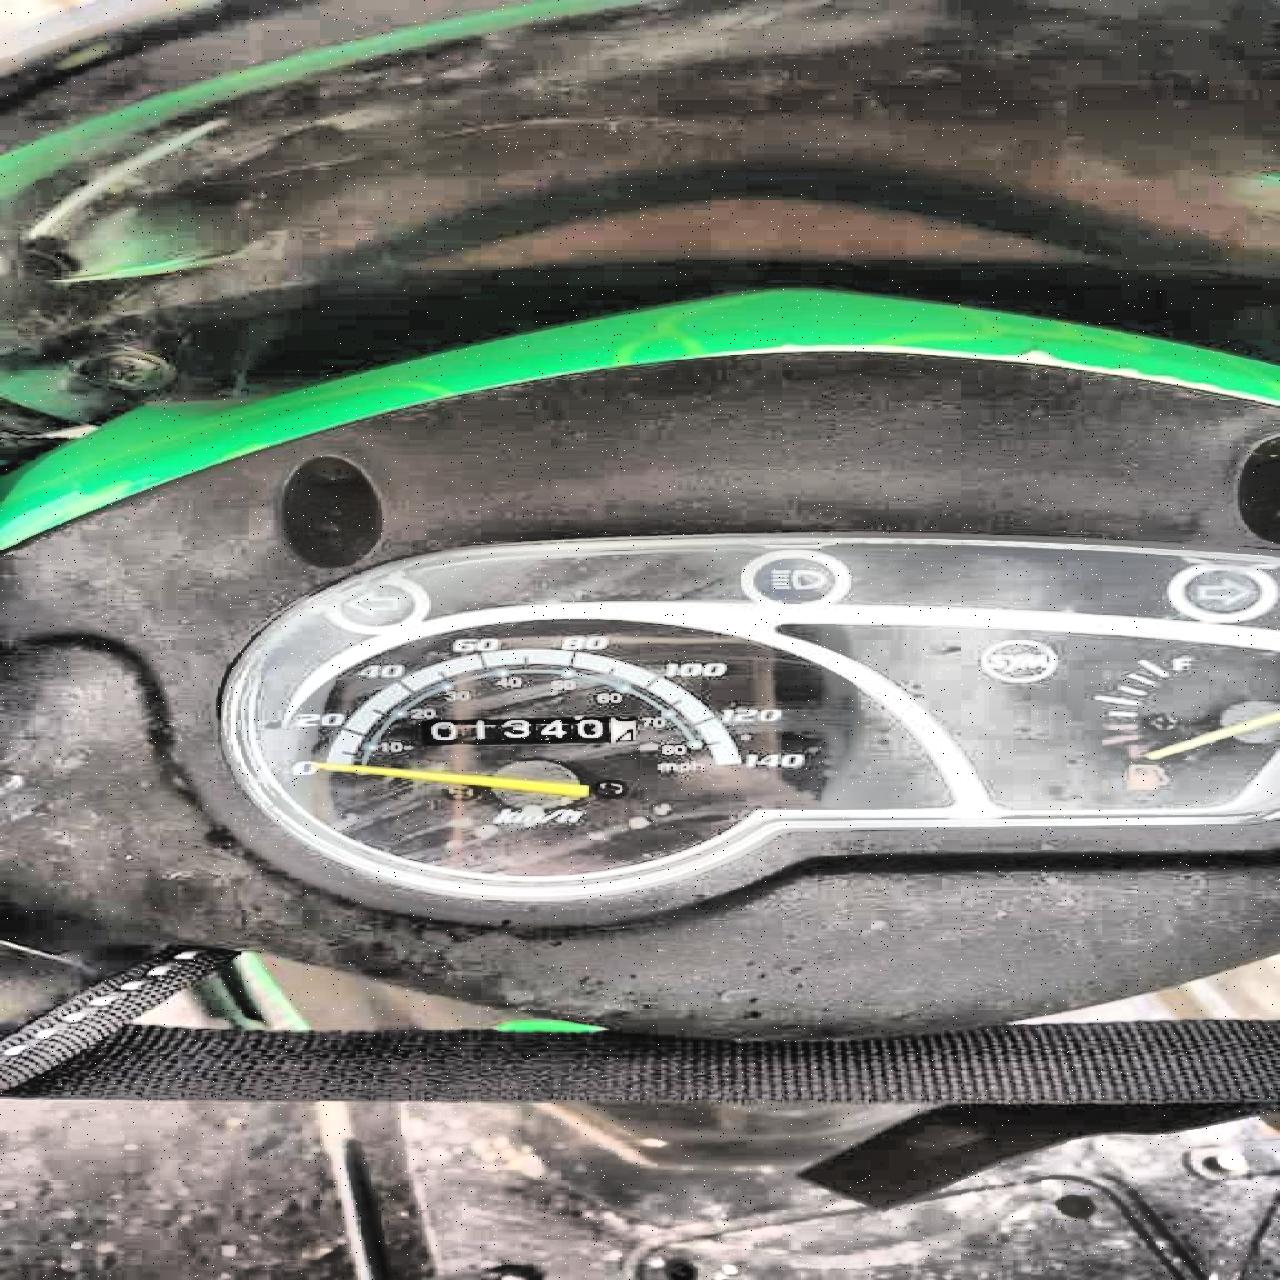0: (573, 717, 602, 737), (427, 720, 456, 740)
1: (469, 717, 486, 741)
3: (498, 717, 529, 737)
4: (536, 717, 566, 737), (611, 727, 635, 742)
odometer: (414, 714, 640, 748)
